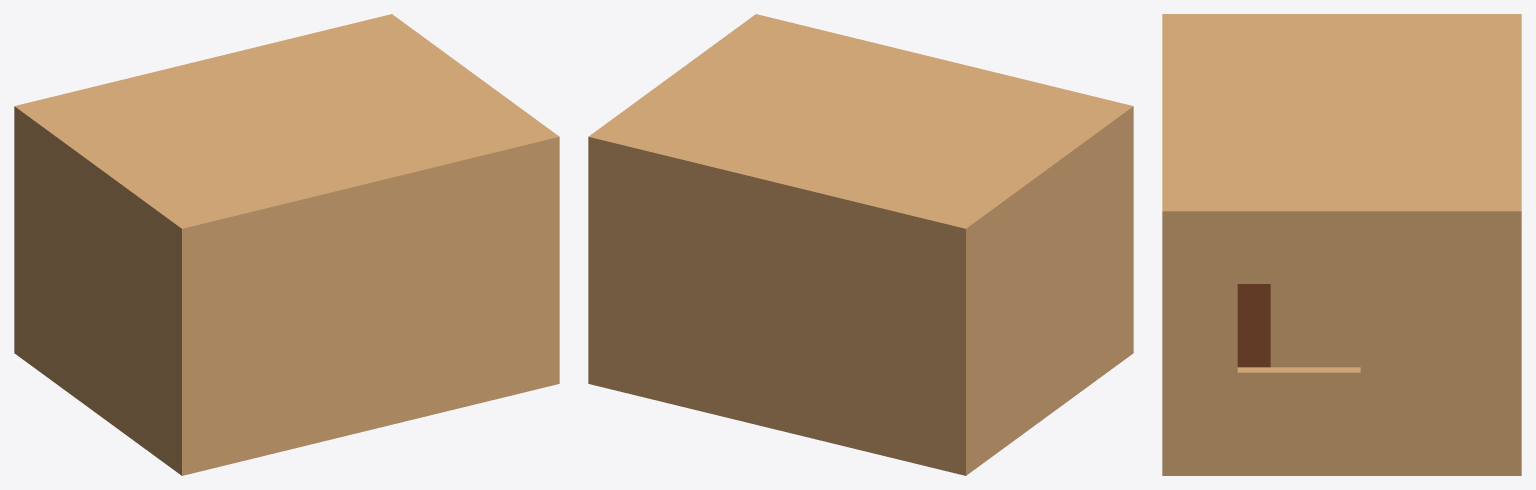
File: S_CouloirU.glb
The picture shows the model from 3 angles, left to right: view 1: azimuth 30°, elevation 25°; view 2: azimuth 150°, elevation 25°; view 3: azimuth 270°, elevation 25°; orthographic projection. The views are drawn at different scales.
Parts seen in each view (by area): view 1: murAvecFenetre, S_Plafond, Piece Centre; view 2: murAvecFenetre, S_Plafond, Piece Centre; view 3: murAvecFenetre, S_Plafond, Piece Centre, S_Sol.
Boxes of the visible parts, x1=… form: murAvecFenetre: x1=14, y1=14, x2=559, y2=475; S_Plafond: x1=31, y1=21, x2=542, y2=221; Piece Centre: x1=101, y1=39, x2=393, y2=148; murAvecFenetre: x1=588, y1=14, x2=1133, y2=475; S_Plafond: x1=605, y1=21, x2=1116, y2=221; Piece Centre: x1=678, y1=90, x2=962, y2=204; murAvecFenetre: x1=1162, y1=14, x2=1521, y2=475; S_Plafond: x1=1176, y1=19, x2=1507, y2=205; Piece Centre: x1=1270, y1=56, x2=1507, y2=367; S_Sol: x1=1237, y1=284, x2=1270, y2=367.
Size of the model in its own units: 4.23 by 2.65 by 3.25.
